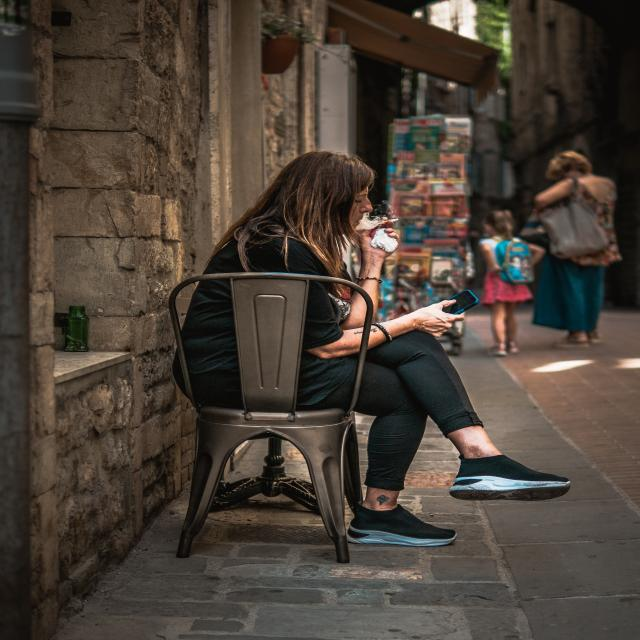nonfall: (199, 131, 541, 550), (548, 140, 628, 359)
